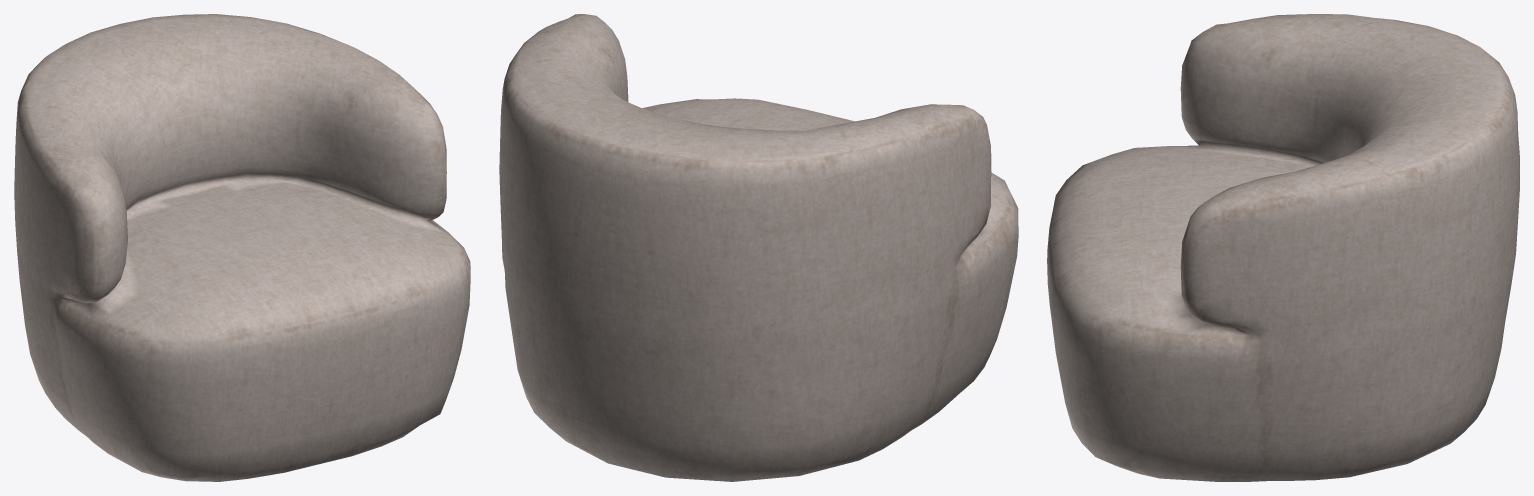
Rendered from armchair-poppi-fc7e91.glb.
The picture shows the model from 3 angles, left to right: view 1: azimuth 30°, elevation 25°; view 2: azimuth 150°, elevation 25°; view 3: azimuth 270°, elevation 25°; orthographic projection. The views are drawn at different scales.
Parts seen in each view (by area): view 1: PropMesh; view 2: PropMesh; view 3: PropMesh.
Boxes of the visible parts, <box> form: PropMesh: <box>14,14,470,481</box>; PropMesh: <box>499,14,1018,481</box>; PropMesh: <box>1047,14,1519,481</box>.
Bounding box in the file's own units: 0.8364 × 0.6424 × 0.8618.
1 material, 1 textured.
